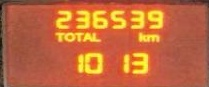0: (83, 51, 102, 73)
1: (120, 51, 131, 72), (75, 51, 83, 72)
2: (56, 9, 73, 29)
3: (132, 49, 148, 74), (128, 9, 145, 29), (74, 9, 89, 28)
5: (109, 8, 125, 29)
6: (90, 8, 108, 29)
9: (146, 9, 165, 30)
X: (146, 33, 160, 42), (63, 30, 74, 41), (54, 30, 63, 41), (74, 30, 83, 41), (82, 30, 91, 41), (92, 30, 101, 41), (137, 30, 144, 41)
